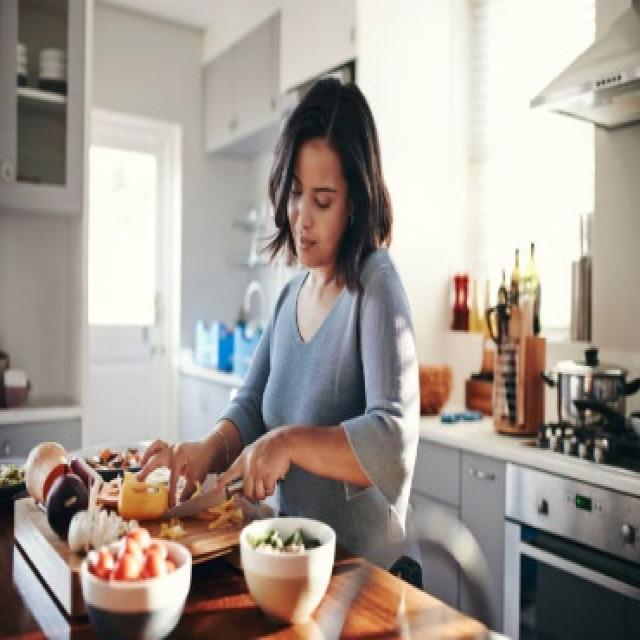adult: (173, 74, 416, 520)
